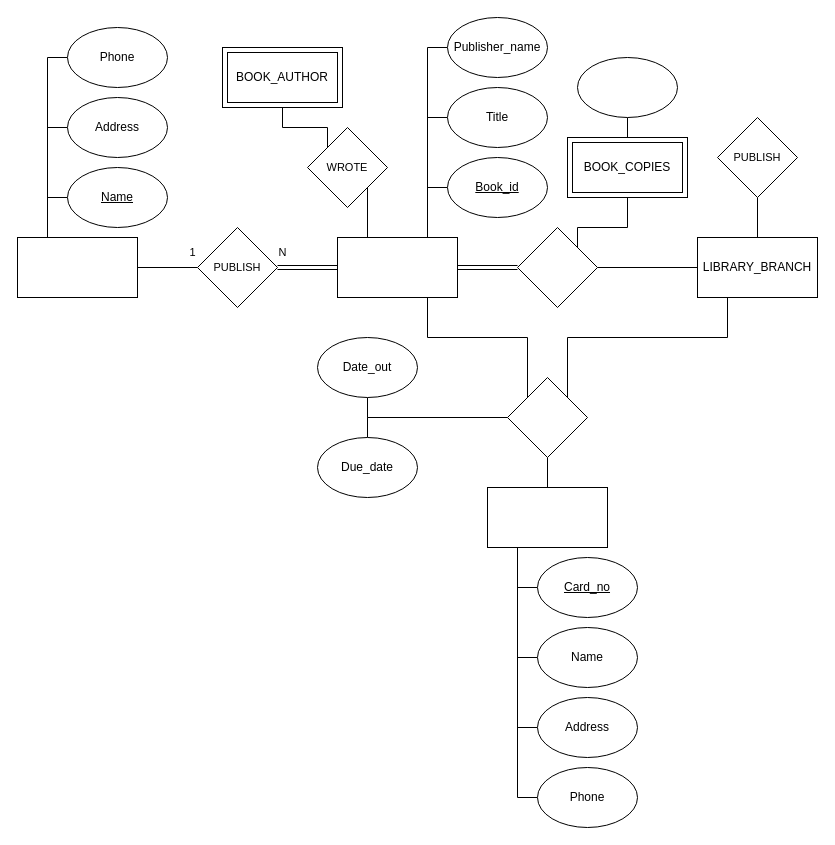
Some shapes in this 835 by 845 pixel diagram are drawn without their labels. Each missing label, with the centre of its shape:
"BOOK" goes at (397,267).
"BORROWER" goes at (547,517).
"BORROWS" goes at (547,417).
"Has" goes at (557,267).
"NO_of_copies" goes at (627,87).
"PUBLISHER" goes at (77,267).
